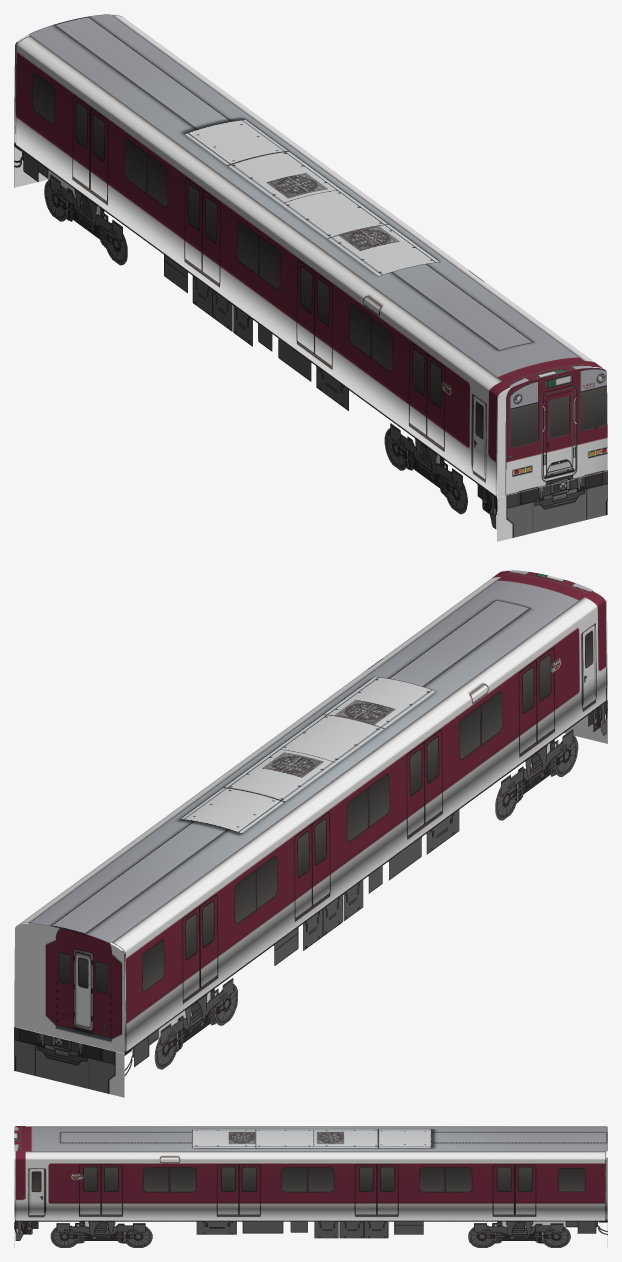
File: car1.glb
The picture shows the model from 3 angles, top to bottom: view 1: azimuth 30°, elevation 25°; view 2: azimuth 150°, elevation 25°; view 3: azimuth 270°, elevation 25°; orthographic projection. The views are drawn at different scales.
Visible parts, largest first — view 1: kintetsu-1020-car1; view 2: kintetsu-1020-car1; view 3: kintetsu-1020-car1.
Boxes of the visible parts, x1,y1,x2,y2 form: kintetsu-1020-car1: (14,14,607,541); kintetsu-1020-car1: (14,570,607,1097); kintetsu-1020-car1: (14,1126,607,1247).
Size of the model in its own units: 2.8 by 3.73 by 21.25.
Materials: 8 (7 with a texture image).
